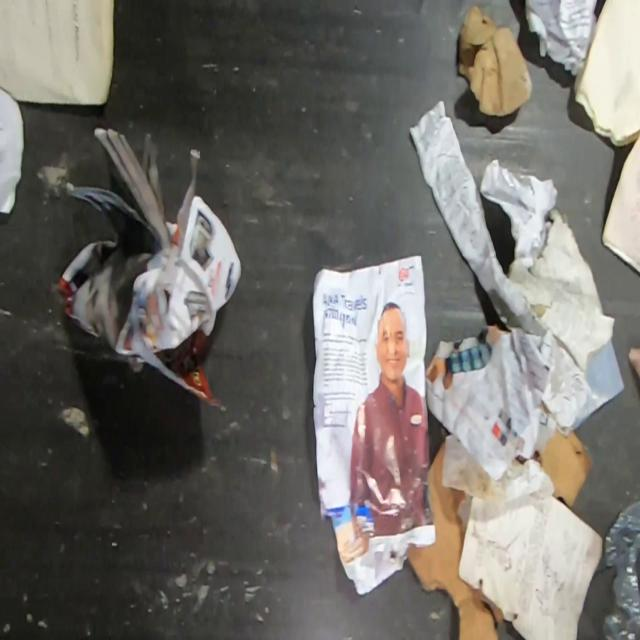cardboard: (406, 438, 505, 639), (455, 0, 537, 120), (532, 428, 596, 510)
soft_plastic: (566, 336, 626, 430), (601, 499, 640, 639)
